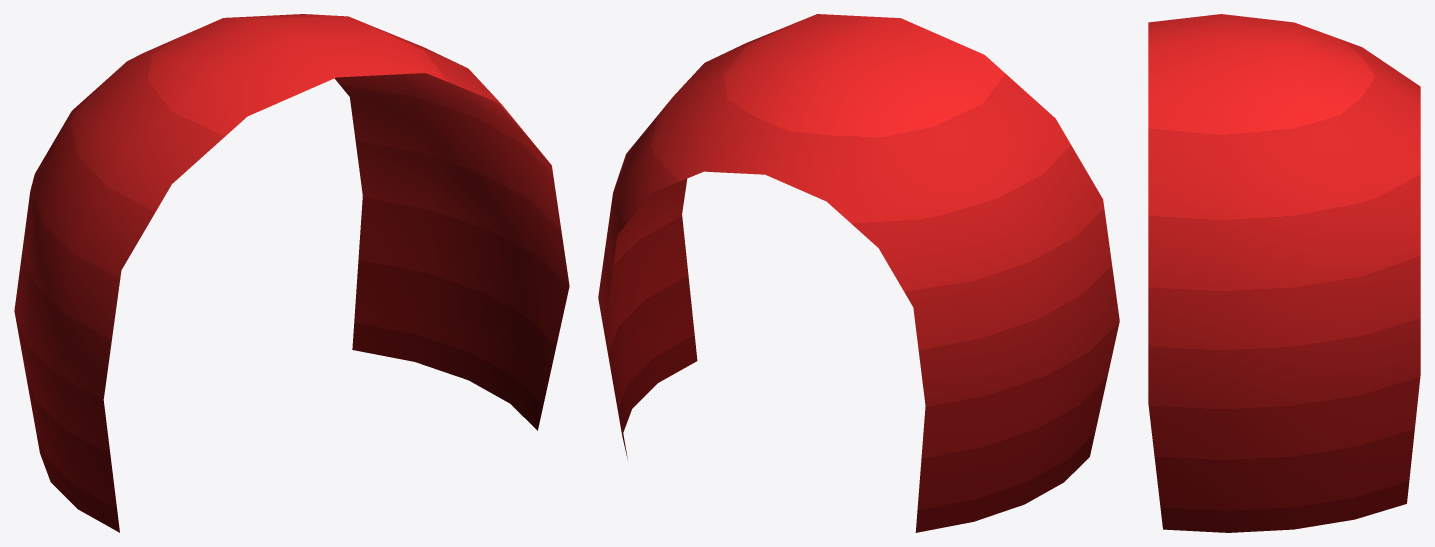
File: crown-dress.fbx
3 renders of one model, left to right at view 1: azimuth 30°, elevation 25°; view 2: azimuth 150°, elevation 25°; view 3: azimuth 270°, elevation 25°, orthographic. The views are drawn at different scales.
Parts seen in each view (by area): view 1: Cow.002; view 2: Cow.002; view 3: Cow.002.
Boxes of the visible parts, x1,y1,x2,y2 form: Cow.002: (14, 14, 569, 532); Cow.002: (598, 14, 1119, 532); Cow.002: (1148, 14, 1420, 532).
Bounding box in the file's own units: 228 × 189 × 118.
